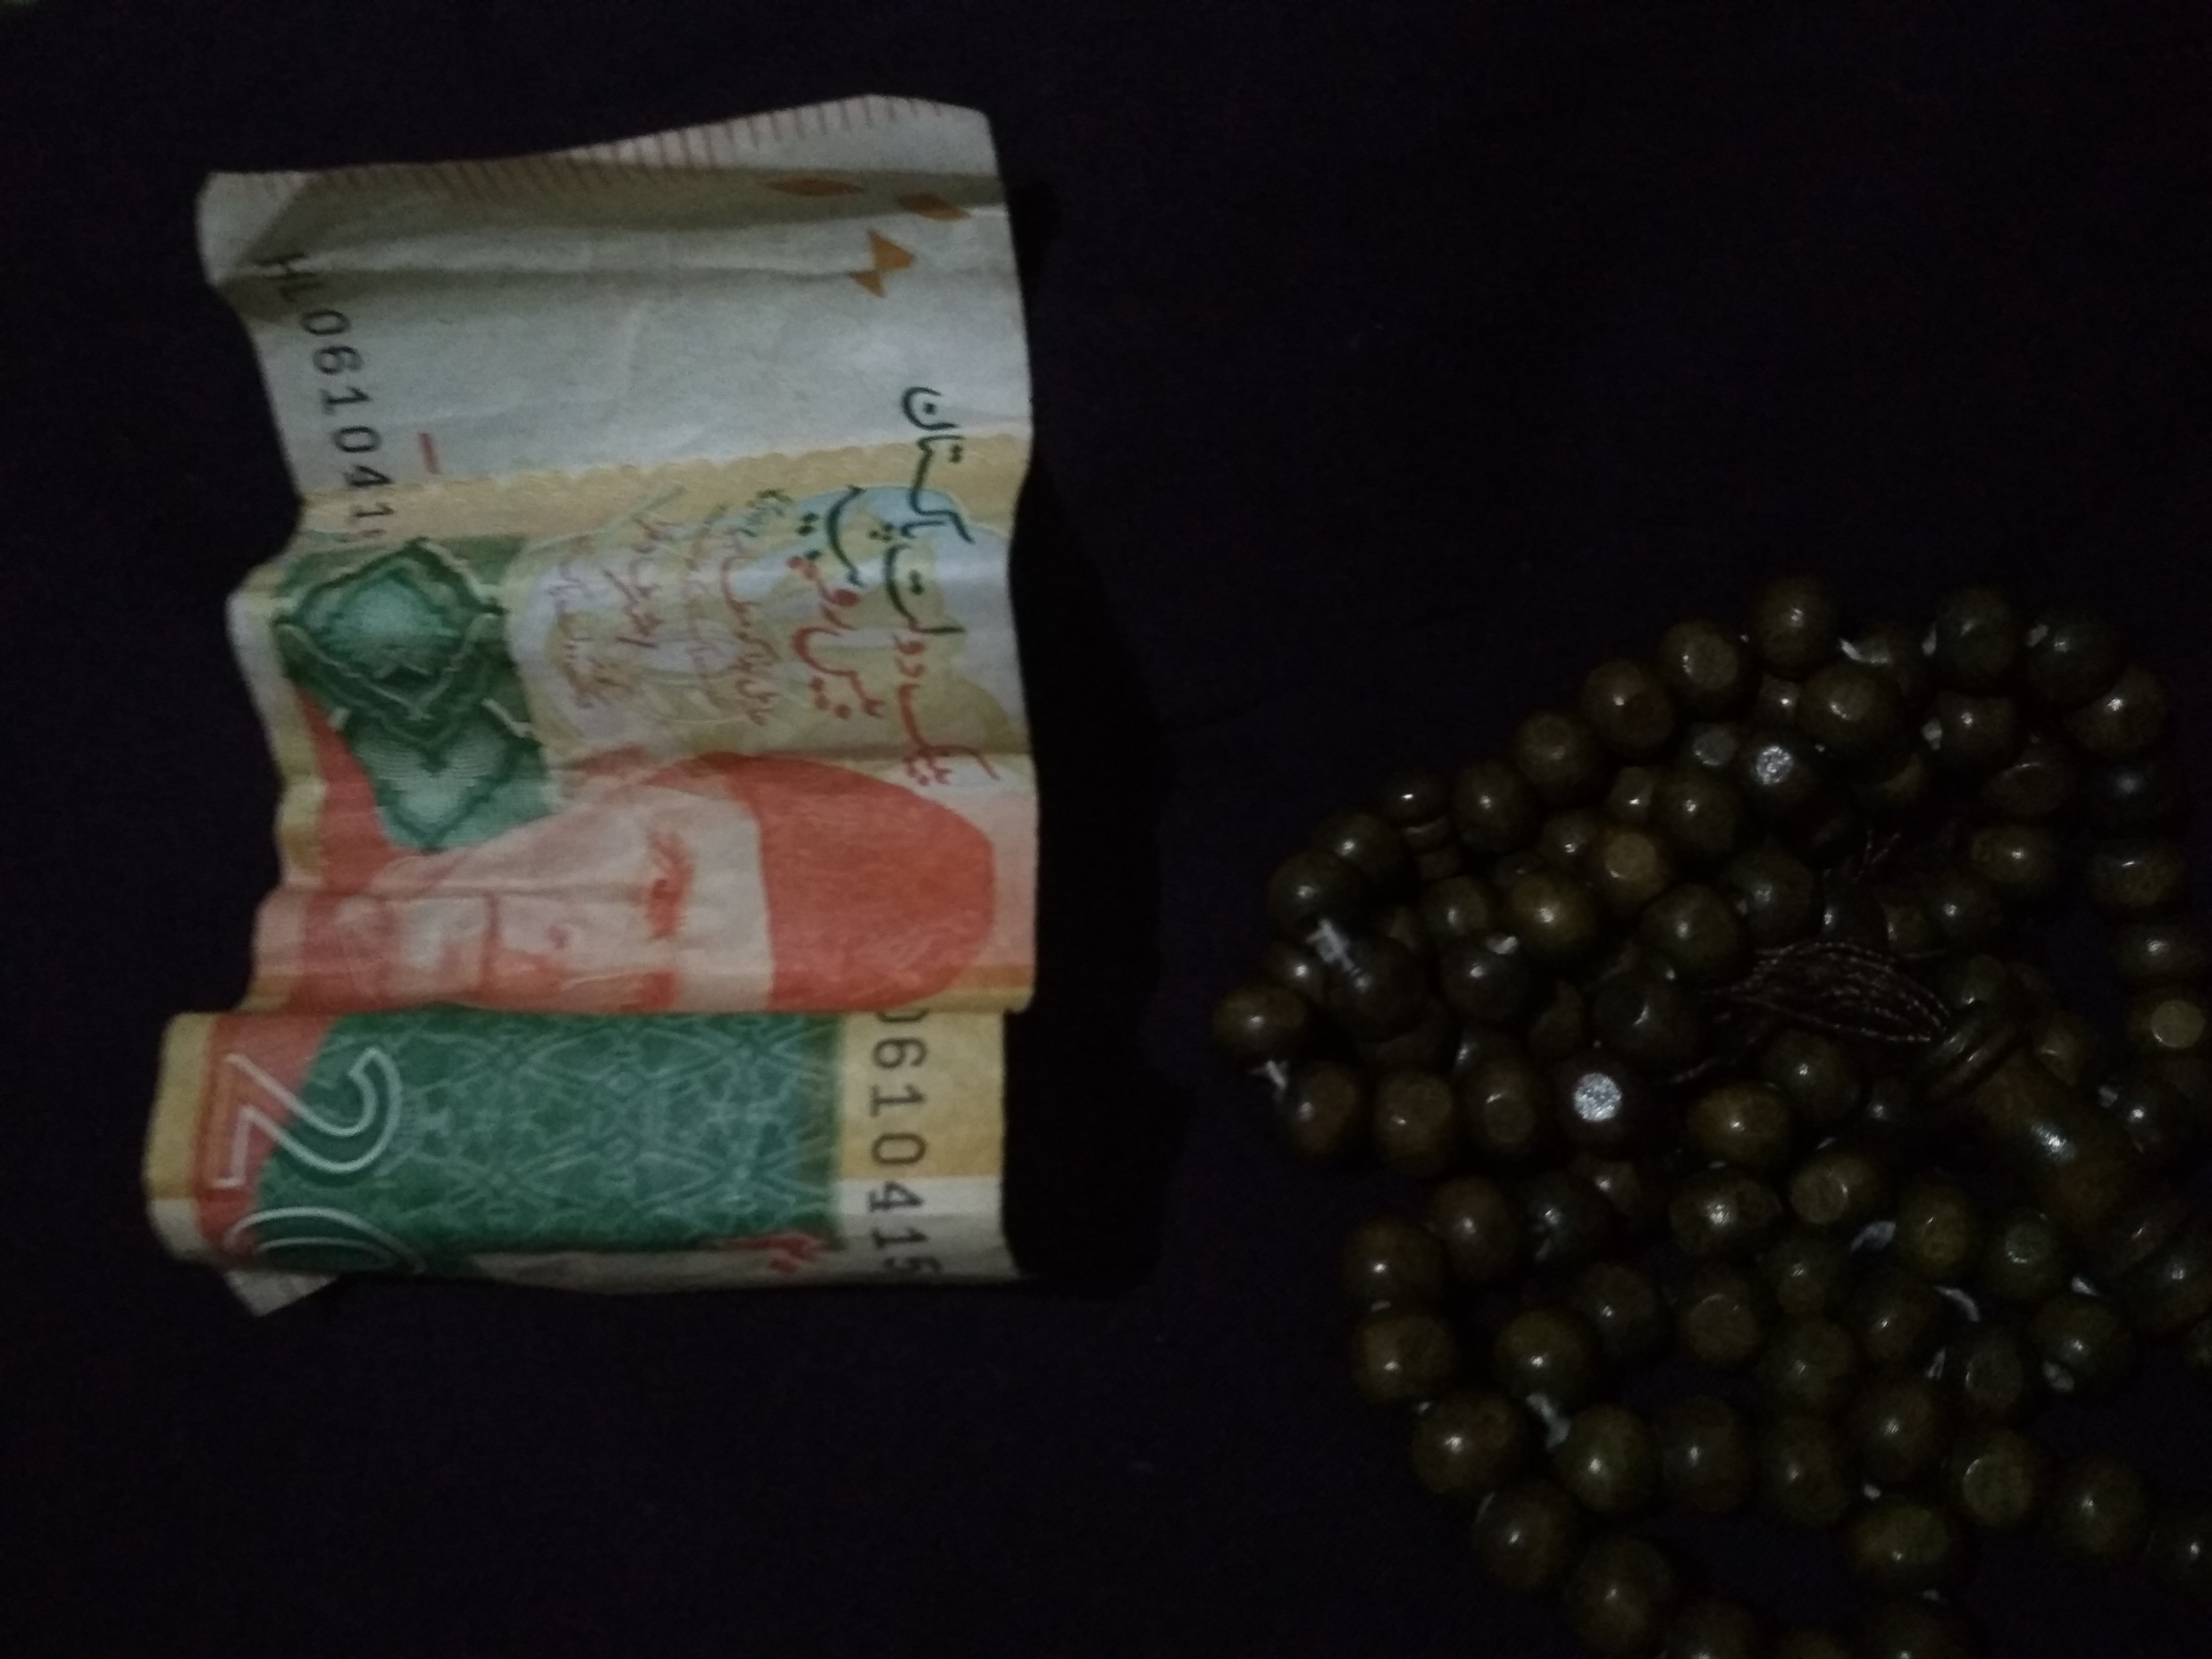20 rupee: (157, 99, 1092, 1377)
